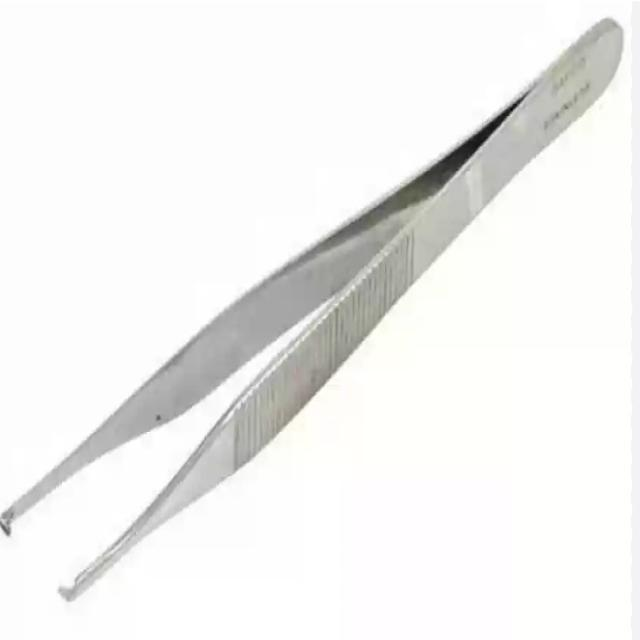Disscting Forceps -tooth-: (0, 17, 624, 602)
